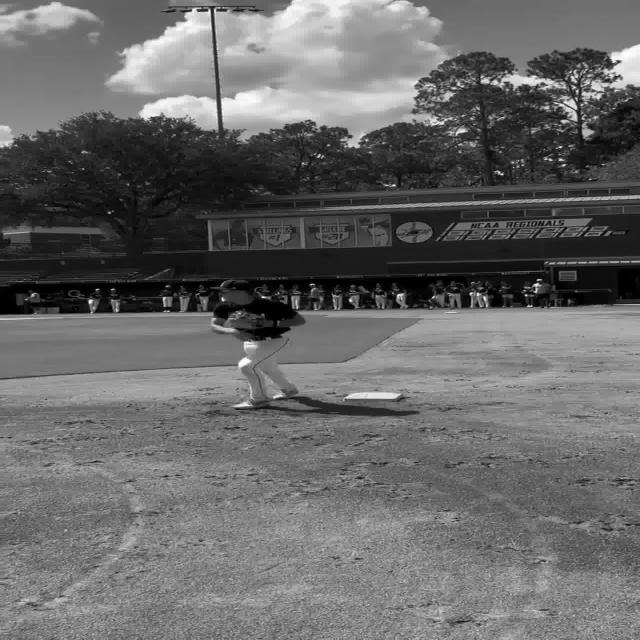base: (345, 391, 405, 401)
baseball_glove: (224, 310, 273, 330)
shoe: (271, 386, 300, 400), (233, 401, 269, 410)
